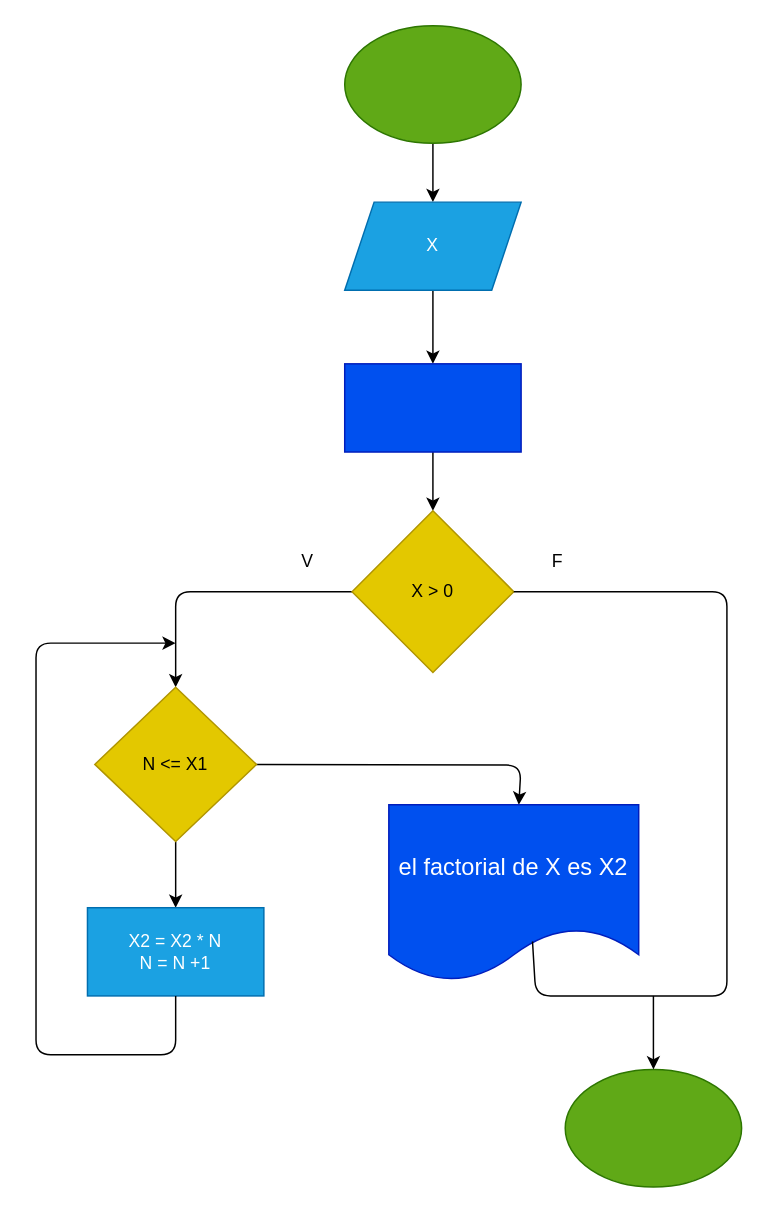
Some shapes in this 767 by 1213 pixel diagram are drawn without their labels. The centre of each missing label's shape, as x and y in pixels:
"FIN" belongs at (x=653, y=1127).
"INICIO" belongs at (x=432, y=83).
"N = 1 X1 = X - 1 X2 = X" belongs at (x=432, y=407).
